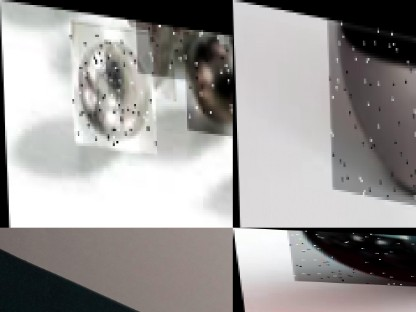ironball: (327, 15, 415, 199), (69, 20, 156, 149), (287, 229, 415, 285), (183, 22, 232, 130), (135, 16, 190, 75), (218, 26, 229, 38)
